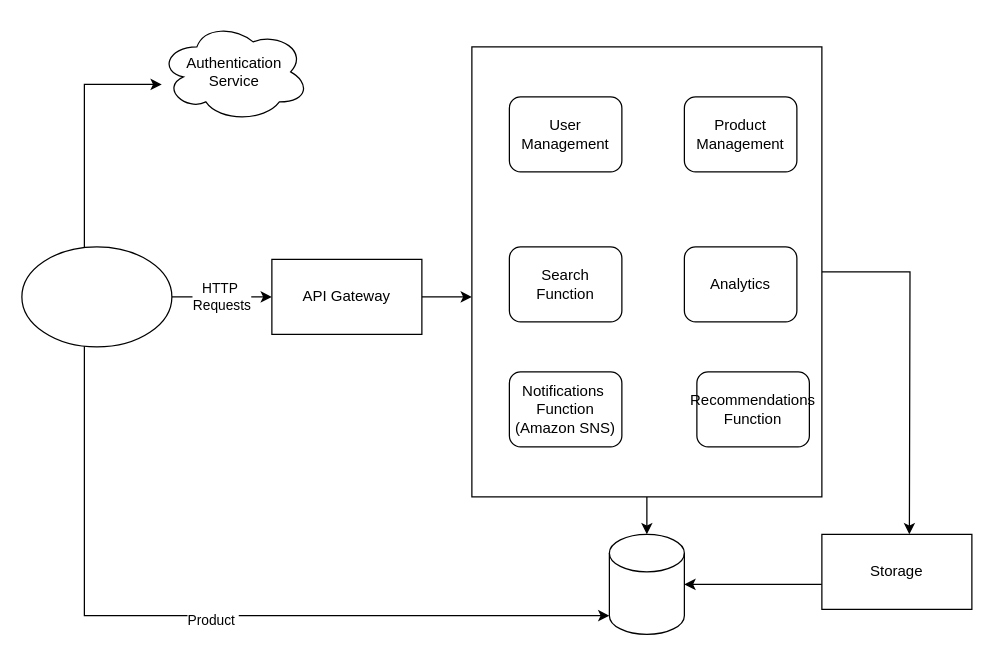
The diagram is 994 pixels wide and 656 high, and some of its shapes have lost their labels. The centre of each missing label's shape, as x and y in pixels:
"Amazon RDS" belongs at (646,583).
"Client (Browser)" belongs at (96,296).
